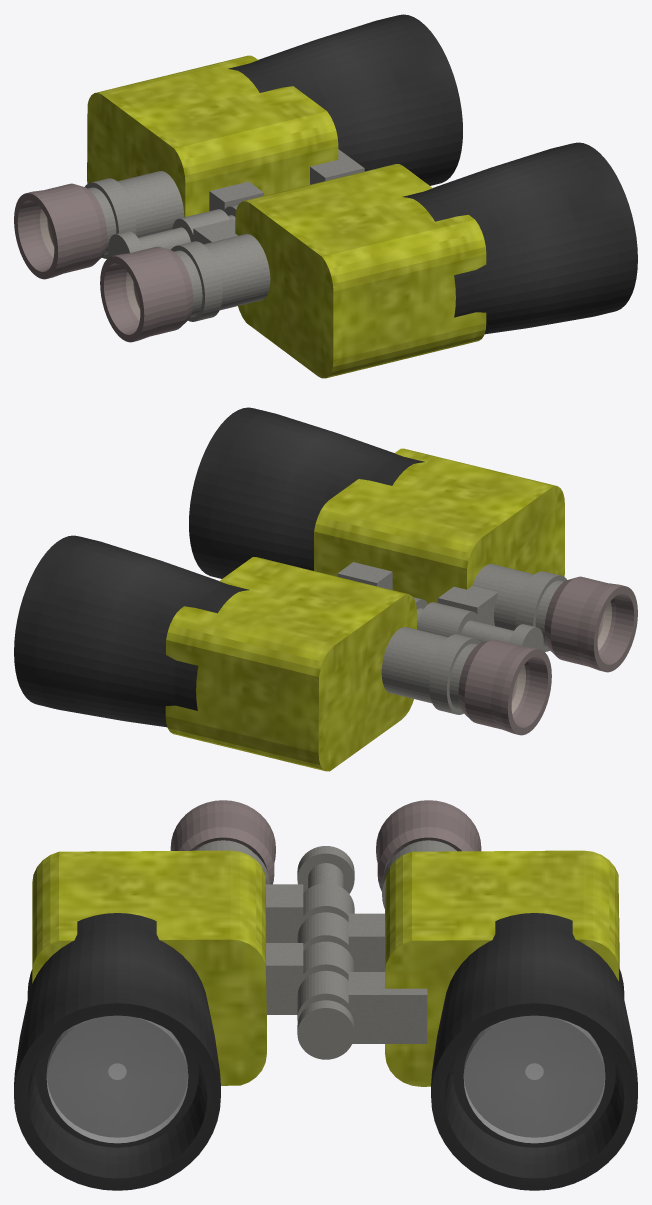
The model's file is Others_Binocular__0005.glb.
The picture shows the model from 3 angles, top to bottom: view 1: azimuth 30°, elevation 25°; view 2: azimuth 150°, elevation 25°; view 3: azimuth 270°, elevation 25°; orthographic projection. The views are drawn at different scales.
Visible parts, largest first — view 1: right_barrel::prism_housing, right_barrel::objective_tube, left_barrel::prism_housing, left_barrel::objective_tube, right_barrel::eyecup, left_barrel::eyecup, right_barrel::eyepiece_tube, left_barrel::eyepiece_tube, right_barrel::eyepiece_ring, left_barrel::eyepiece_ring, left_barrel::rear_hinge_arm, left_barrel::front_hinge_arm (+4 smaller); view 2: left_barrel::prism_housing, left_barrel::objective_tube, right_barrel::prism_housing, right_barrel::objective_tube, left_barrel::eyecup, right_barrel::eyecup, left_barrel::eyepiece_tube, right_barrel::eyepiece_tube, left_barrel::eyepiece_ring, right_barrel::rear_hinge_sleeve, right_barrel::rear_hinge_arm, right_barrel::eyepiece_ring (+3 smaller); view 3: right_barrel::objective_tube, left_barrel::objective_tube, right_barrel::prism_housing, left_barrel::prism_housing, left_barrel::objective_lens, right_barrel::objective_lens, left_barrel::front_hinge_arm, left_barrel::eyecup, right_barrel::eyecup, hinge_bridge::front_hinge_cap, right_barrel::front_hinge_arm, right_barrel::rear_hinge_arm (+8 smaller).
Part boxes in pixels (<box>): right_barrel::prism_housing: <box>235,164,486,378</box>; right_barrel::objective_tube: <box>402,142,637,334</box>; left_barrel::prism_housing: <box>87,55,338,217</box>; left_barrel::objective_tube: <box>228,14,462,185</box>; right_barrel::eyecup: <box>100,246,193,342</box>; left_barrel::eyecup: <box>14,183,107,279</box>; right_barrel::eyepiece_tube: <box>174,234,270,317</box>; left_barrel::eyepiece_tube: <box>88,171,184,254</box>; right_barrel::eyepiece_ring: <box>171,241,222,321</box>; left_barrel::eyepiece_ring: <box>85,178,136,258</box>; left_barrel::rear_hinge_arm: <box>209,181,263,211</box>; left_barrel::front_hinge_arm: <box>310,149,364,184</box>; left_barrel::prism_housing: <box>165,557,416,771</box>; left_barrel::objective_tube: <box>14,535,249,727</box>; right_barrel::prism_housing: <box>314,448,564,603</box>; right_barrel::objective_tube: <box>189,407,424,578</box>; left_barrel::eyecup: <box>458,639,551,735</box>; right_barrel::eyecup: <box>544,576,637,672</box>; left_barrel::eyepiece_tube: <box>381,627,477,710</box>; right_barrel::eyepiece_tube: <box>472,564,563,647</box>; left_barrel::eyepiece_ring: <box>429,634,480,714</box>; right_barrel::rear_hinge_sleeve: <box>417,602,479,637</box>; right_barrel::rear_hinge_arm: <box>438,586,498,625</box>; right_barrel::eyepiece_ring: <box>515,571,566,651</box>; right_barrel::objective_tube: <box>14,913,220,1190</box>; left_barrel::objective_tube: <box>431,913,637,1190</box>; right_barrel::prism_housing: <box>32,850,266,1085</box>; left_barrel::prism_housing: <box>385,850,619,1086</box>; left_barrel::objective_lens: <box>463,1016,605,1143</box>; right_barrel::objective_lens: <box>46,1016,188,1143</box>; left_barrel::front_hinge_arm: <box>348,972,427,1043</box>; left_barrel::eyecup: <box>376,800,481,891</box>; right_barrel::eyecup: <box>170,800,275,884</box>; hinge_bridge::front_hinge_cap: <box>297,1000,354,1059</box>; right_barrel::front_hinge_arm: <box>266,943,303,1014</box>; right_barrel::rear_hinge_arm: <box>265,884,303,942</box>.
Size of the model in its own units: 0.1959 by 0.0688 by 0.2074.
Materials: 6 (4 with a texture image).
